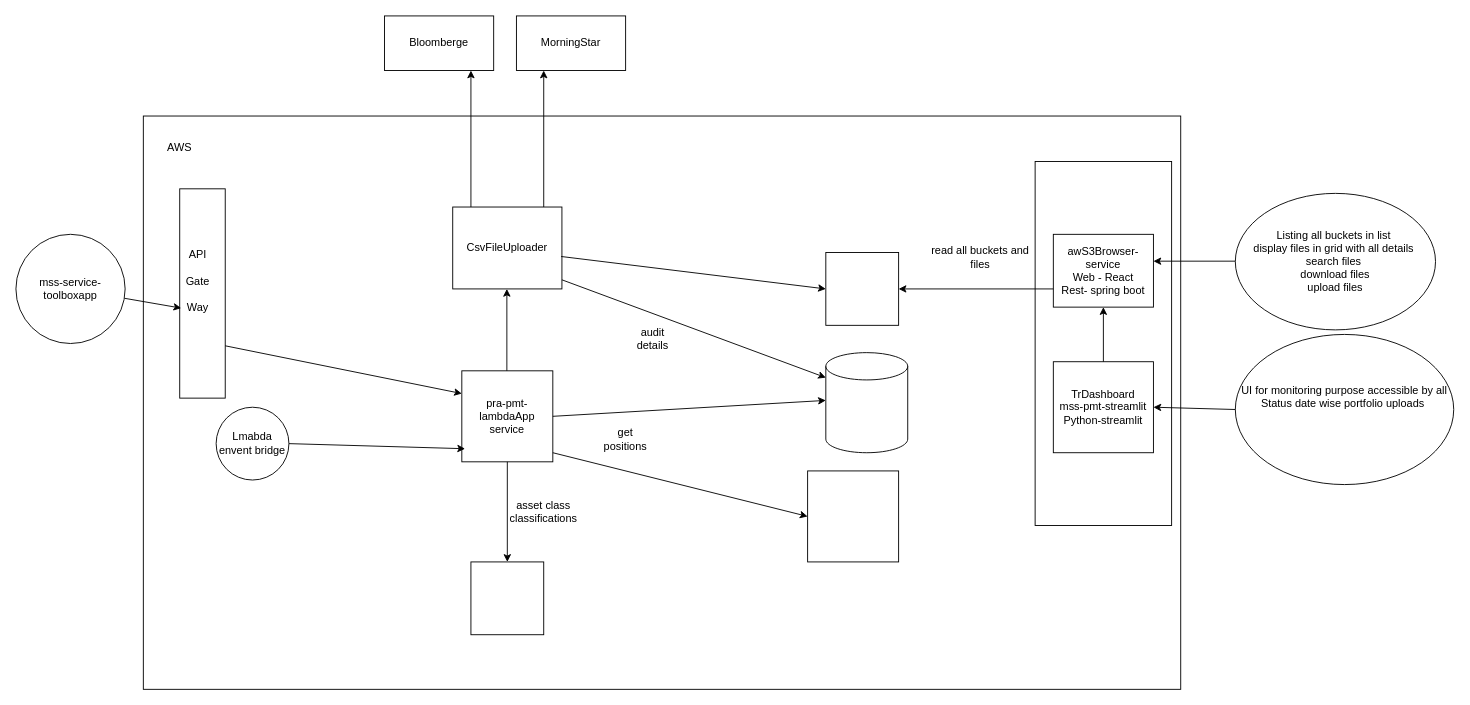
Some shapes in this 1470 by 705 pixel diagram are drawn without their labels. Here are the shapes that lost their labels. From the top down, the box of each, then its label:
(825, 252, 899, 325): S3
(1034, 161, 1172, 526): ECS Cluster
(825, 352, 908, 453): Aurora
(807, 470, 899, 562): positionservice
(470, 561, 544, 635): vehicle service
